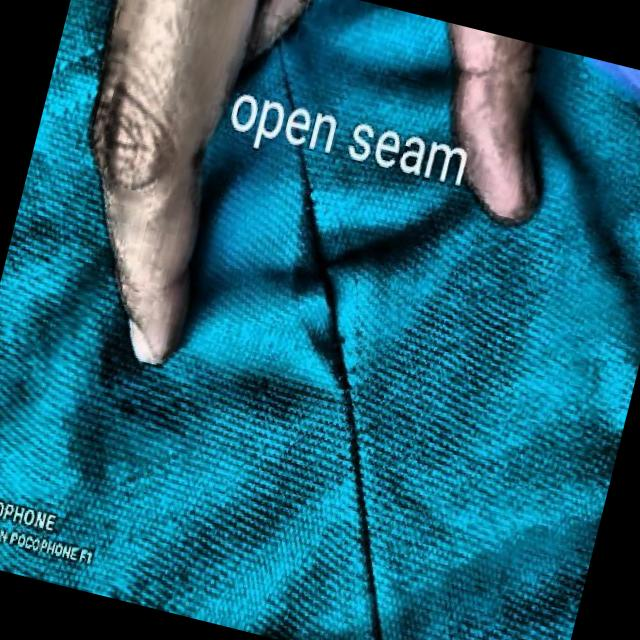cut: (220, 167, 420, 424)
